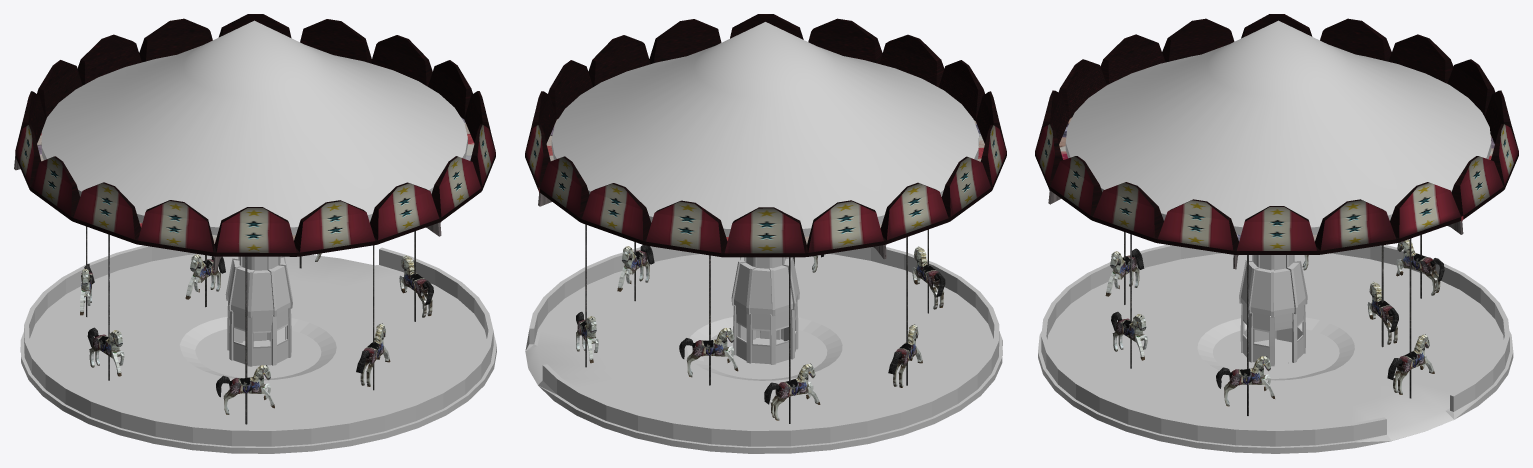
The model's file is Carousel.FBX.
3 renders of one model, left to right at view 1: azimuth 30°, elevation 25°; view 2: azimuth 150°, elevation 25°; view 3: azimuth 270°, elevation 25°, orthographic.
Parts seen in each view (by area): view 1: Cylinder010, Cylinder006, Cylinder004, Plane009, Plane005, Plane011, Plane014, Plane010, Plane013; view 2: Cylinder010, Cylinder006, Cylinder004, Plane013, Plane014, Plane011, Plane009, Plane005, Plane012; view 3: Cylinder010, Cylinder006, Cylinder004, Plane011, Plane012, Plane013, Plane010, Plane009, Plane014.
Part boxes in pixels (x1,y1,x2,y2): Cylinder010: (14,14,495,270); Cylinder006: (20,245,496,453); Cylinder004: (225,256,292,366); Plane009: (216,365,274,414); Plane005: (87,327,124,376); Plane011: (399,255,433,317); Plane014: (185,254,225,299); Plane010: (356,323,390,386); Plane013: (80,264,94,315); Cylinder010: (525,14,1006,259); Cylinder006: (525,246,1002,453); Cylinder004: (731,257,799,364); Plane013: (764,363,820,420); Plane014: (679,328,738,377); Plane011: (617,245,654,291); Plane009: (912,246,945,309); Plane005: (888,324,922,387); Plane012: (576,311,598,363); Cylinder010: (1035,14,1518,269); Cylinder006: (1038,244,1513,453); Cylinder004: (1239,255,1307,366); Plane011: (1216,356,1274,406); Plane012: (1387,334,1434,394); Plane013: (1396,239,1444,295); Plane010: (1111,311,1147,360); Plane009: (1105,248,1144,296); Plane014: (1367,281,1398,344).
Size of the model in its own units: 435 by 335 by 442.
